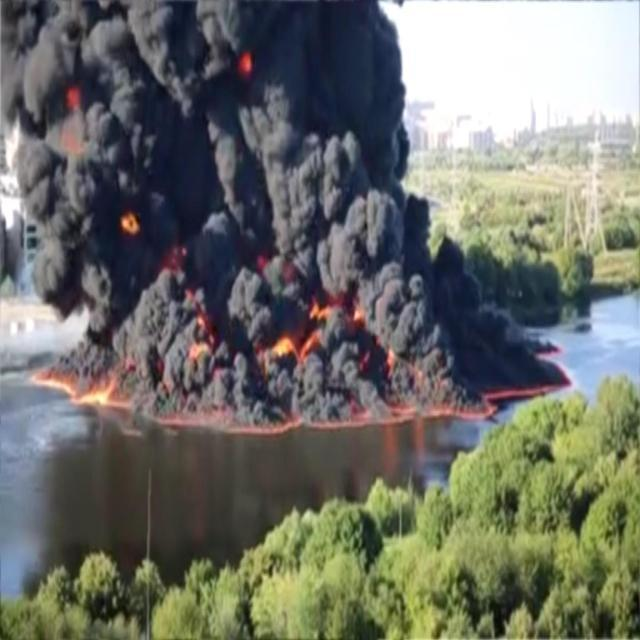Smoke: (1, 0, 580, 423)
